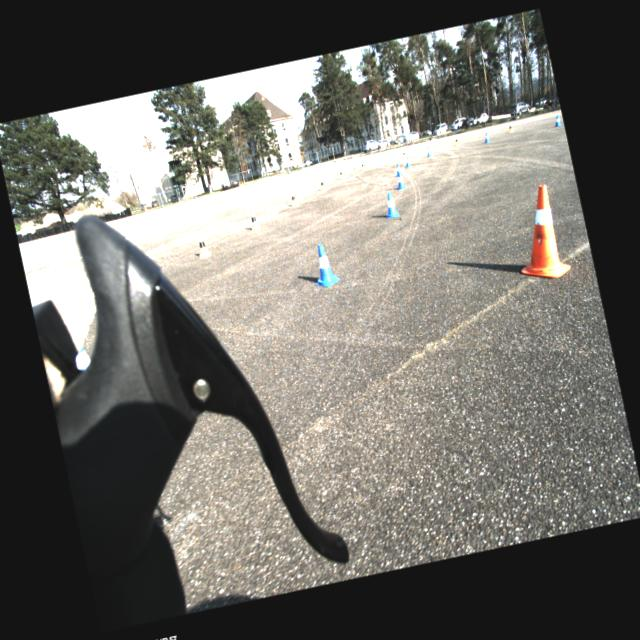blue_cone: (306, 241, 340, 289), (380, 191, 400, 219), (392, 170, 407, 190), (392, 161, 402, 177), (402, 154, 412, 168), (552, 114, 562, 126), (482, 131, 490, 143), (424, 146, 432, 157)
large_orange_cone: (504, 182, 572, 284)
yellow_cone: (194, 232, 212, 258), (247, 210, 260, 230), (288, 190, 299, 207), (318, 177, 326, 190), (452, 136, 460, 146), (506, 123, 513, 133), (359, 160, 366, 170), (338, 168, 344, 178), (401, 150, 406, 158)
